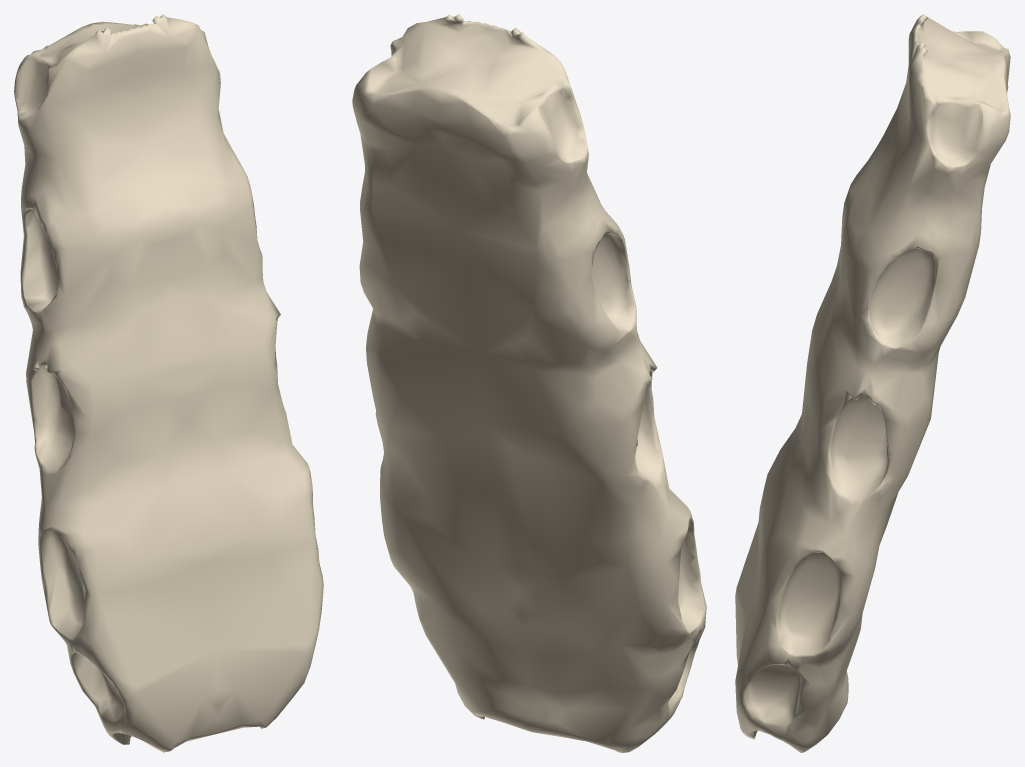
Rendered from body-of-sternum.glb.
3 renders of one model, left to right at view 1: azimuth 30°, elevation 25°; view 2: azimuth 150°, elevation 25°; view 3: azimuth 270°, elevation 25°, orthographic. The views are drawn at different scales.
Visible parts, largest first — view 1: Body of sternum; view 2: Body of sternum; view 3: Body of sternum.
Boxes of the visible parts, x1=… form: Body of sternum: x1=14, y1=14, x2=323, y2=752; Body of sternum: x1=352, y1=14, x2=706, y2=752; Body of sternum: x1=735, y1=14, x2=1010, y2=752.
Size of the model in its own units: 0.0494 by 0.1194 by 0.043.
